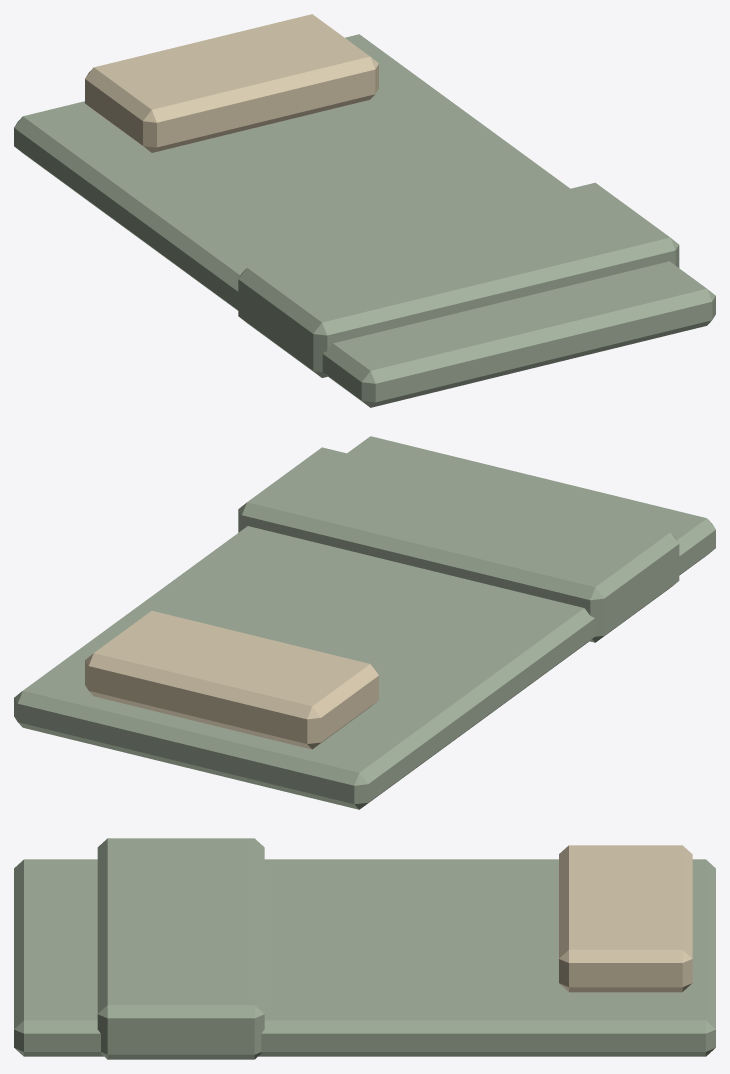
Rendered from HubBedroll.fbx.
3 renders of one model, top to bottom at view 1: azimuth 30°, elevation 25°; view 2: azimuth 150°, elevation 25°; view 3: azimuth 270°, elevation 25°, orthographic.
Parts seen in each view (by area): view 1: HubBedroll; view 2: HubBedroll; view 3: HubBedroll.
Boxes of the visible parts, x1,y1,x2,y2 form: HubBedroll: (14, 14, 715, 407); HubBedroll: (14, 436, 715, 809); HubBedroll: (14, 838, 715, 1059).
Bounding box in the file's own units: 1.24 × 0.26 × 2.1.
